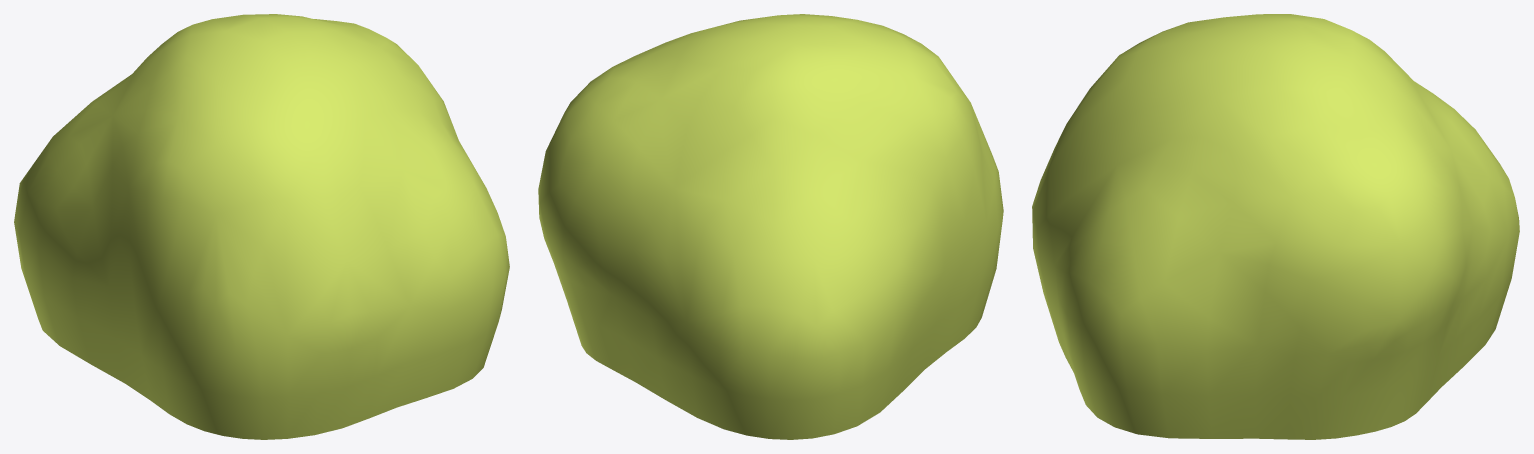
Rendered from BigBush_A.fbx.
3 renders of one model, left to right at view 1: azimuth 30°, elevation 25°; view 2: azimuth 150°, elevation 25°; view 3: azimuth 270°, elevation 25°, orthographic. The views are drawn at different scales.
Parts seen in each view (by area): view 1: Bush_b_l_03; view 2: Bush_b_l_03; view 3: Bush_b_l_03.
Boxes of the visible parts, left/top/right/bottom form: Bush_b_l_03: left=14, top=14, right=509, bottom=439; Bush_b_l_03: left=538, top=14, right=1003, bottom=439; Bush_b_l_03: left=1032, top=14, right=1519, bottom=439.
Bounding box in the file's own units: 237 × 194 × 267.
